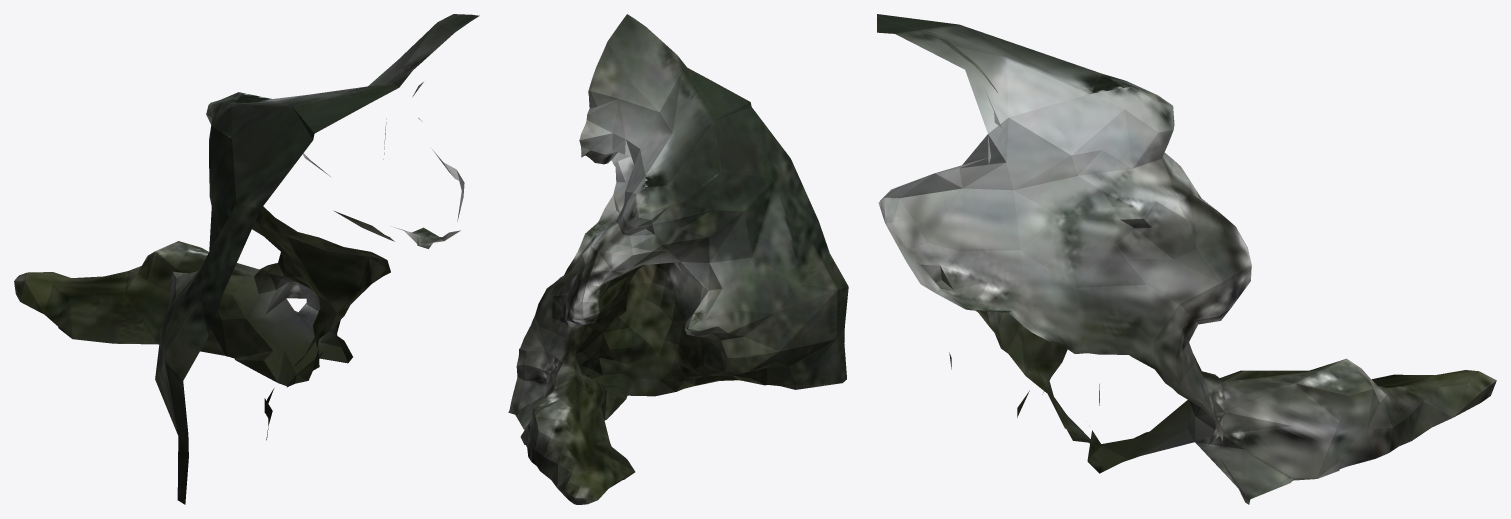
3 renders of one model, left to right at view 1: azimuth 30°, elevation 25°; view 2: azimuth 150°, elevation 25°; view 3: azimuth 270°, elevation 25°, orthographic. The views are drawn at different scales.
Size of the model in its own units: 1.46 by 1.95 by 2.25.
Materials: 2 (2 with a texture image).
